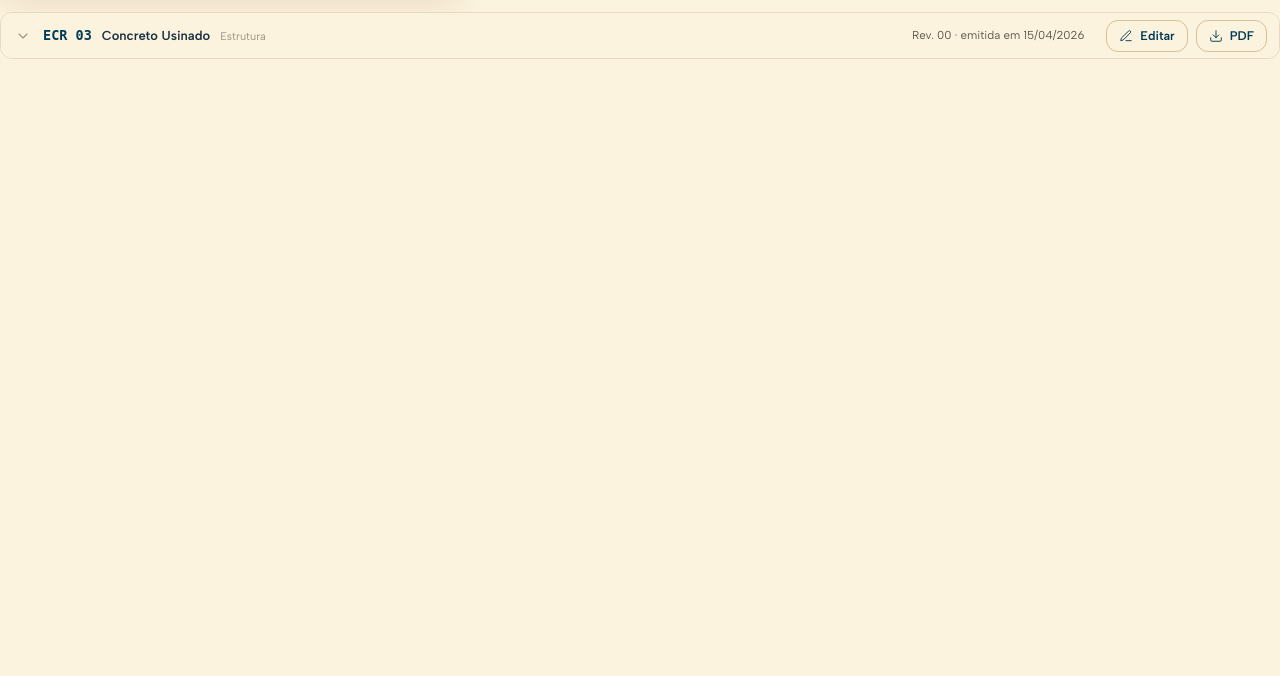
Test: D596 §3 (a proposta do §6) — a tela confere antes de mandar e aponta a linha › texto só com número ou espaço não vale (o banco quer uma letra); rótulo sem letra também não
The width and height of the screenshot is (1280, 676).
Click the button with aria-label "Editar a ECR 03": [1147, 36] box [1106, 20, 1188, 52]
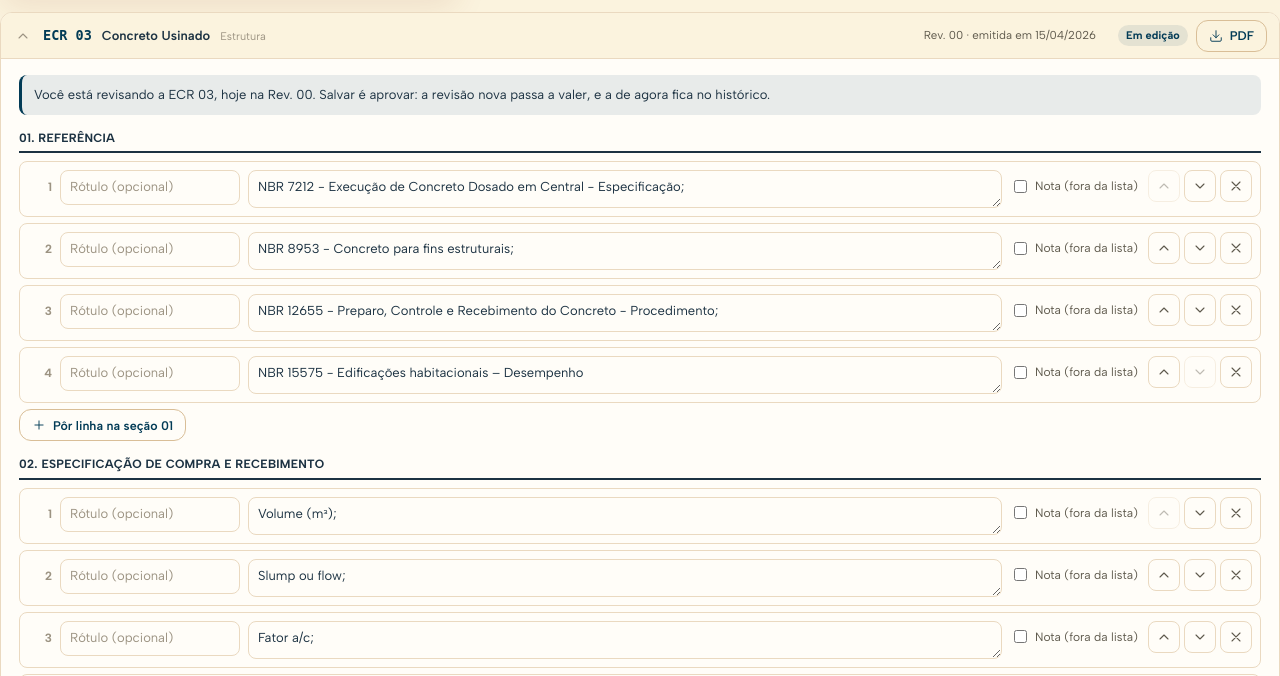
Replace the text in the text box named "Texto da linha 2 da seção 01" with "  123;  ": [625, 251] box [248, 232, 1002, 270]
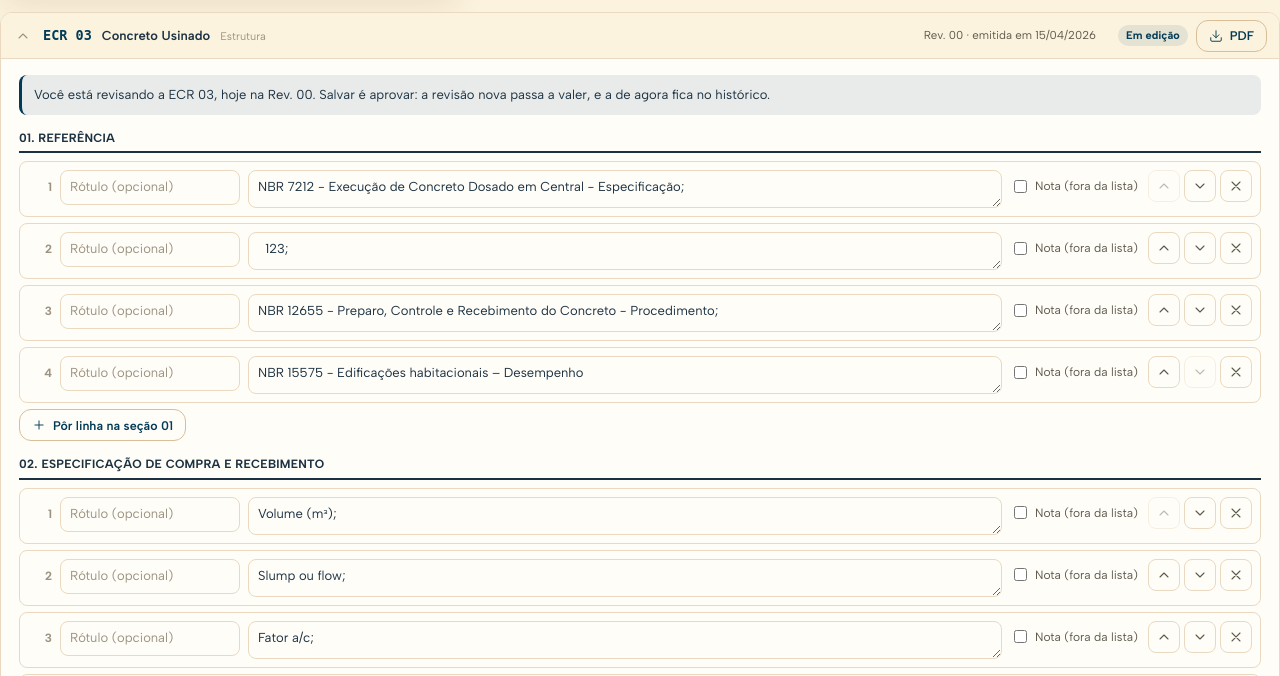
In the field named "Rótulo da linha 3 da seção 01": [150, 312] box [60, 294, 240, 329], type "12"
(page scrolled)
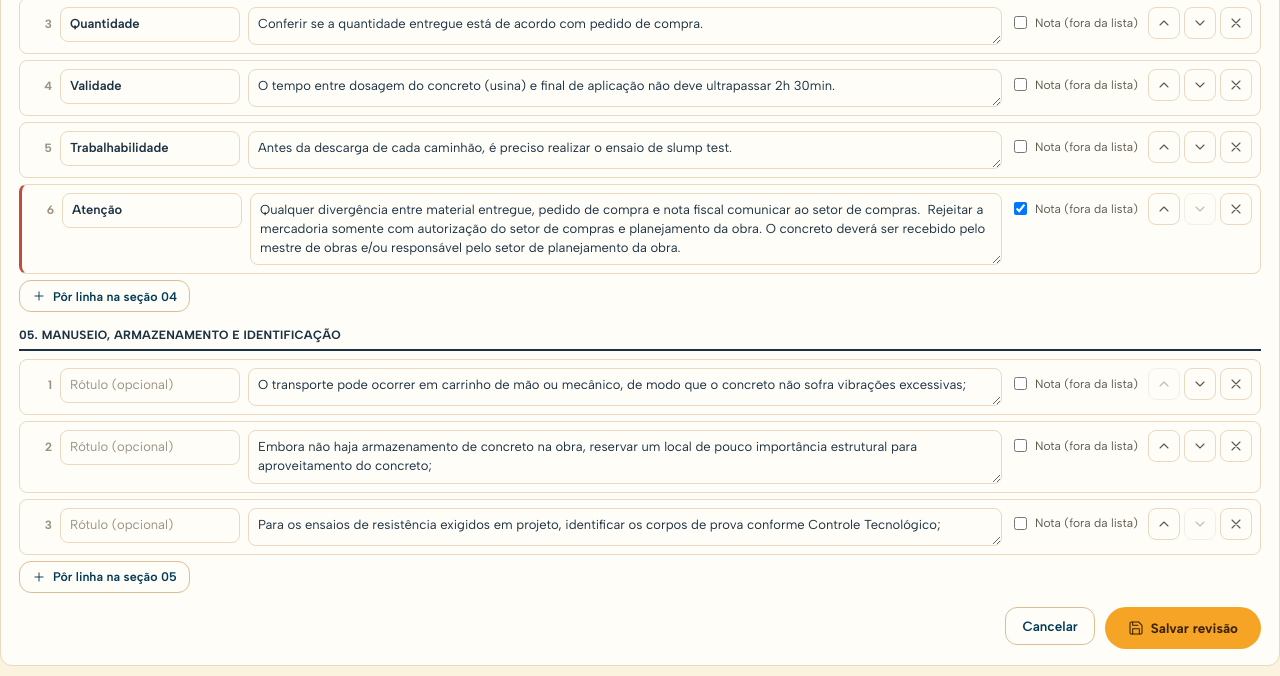
Click the button "Salvar revisão": [1183, 628] box [1105, 607, 1261, 649]
(page scrolled)
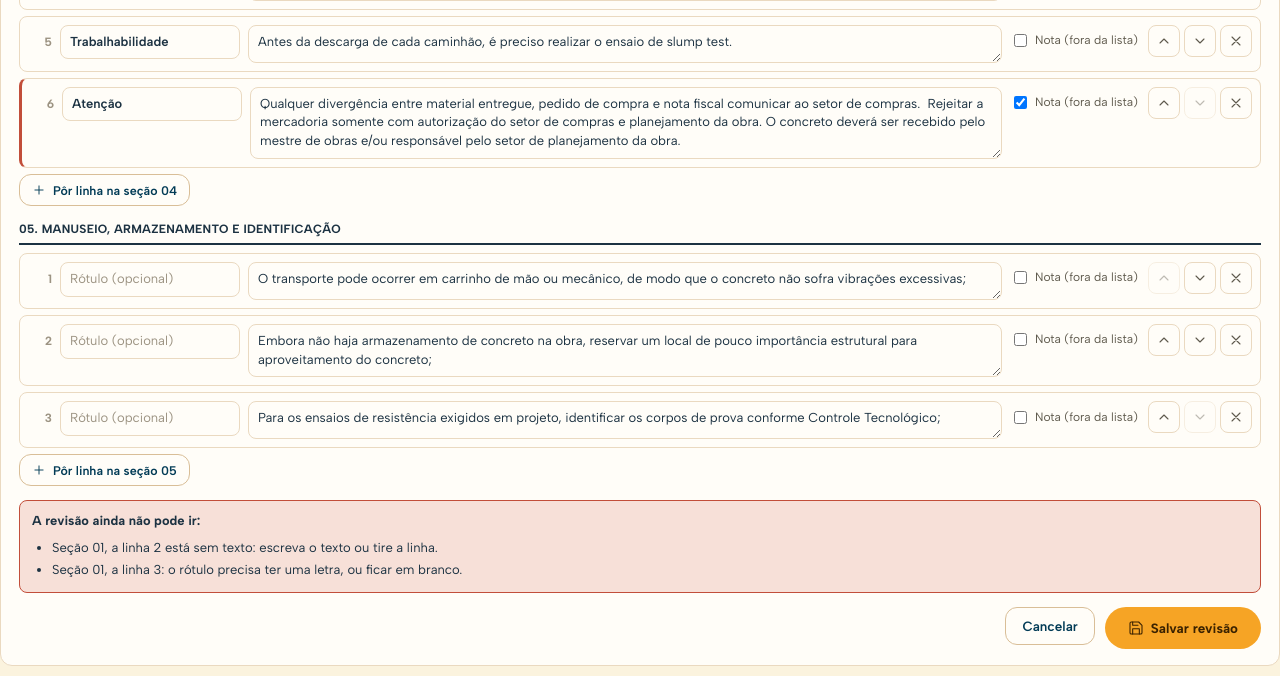
Expected: the message shows "Seção 01, a linha 2 está sem texto: escreva o texto ou tire a linha.", [52, 540, 438, 554]
Expected: the message shows "Seção 01, a linha 3: o rótulo precisa ter uma letra, ou ficar em branco.", [52, 562, 462, 577]
